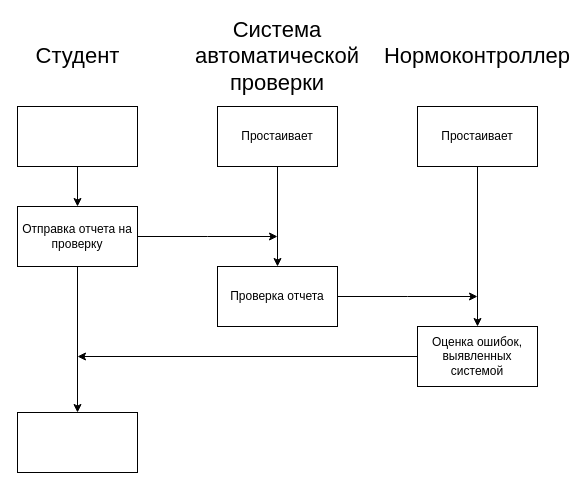
Image size: 588x490. Some labels were removed from this diagram. The centre of each missing label's shape, as x and y in pixels:
"Просмотр результатов проверки" goes at (x=77, y=442).
"Работа с отчетом" goes at (x=77, y=136).
